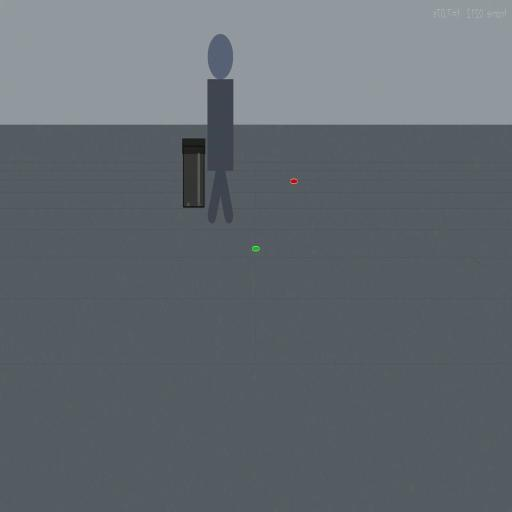bin: (181, 137, 206, 209)
